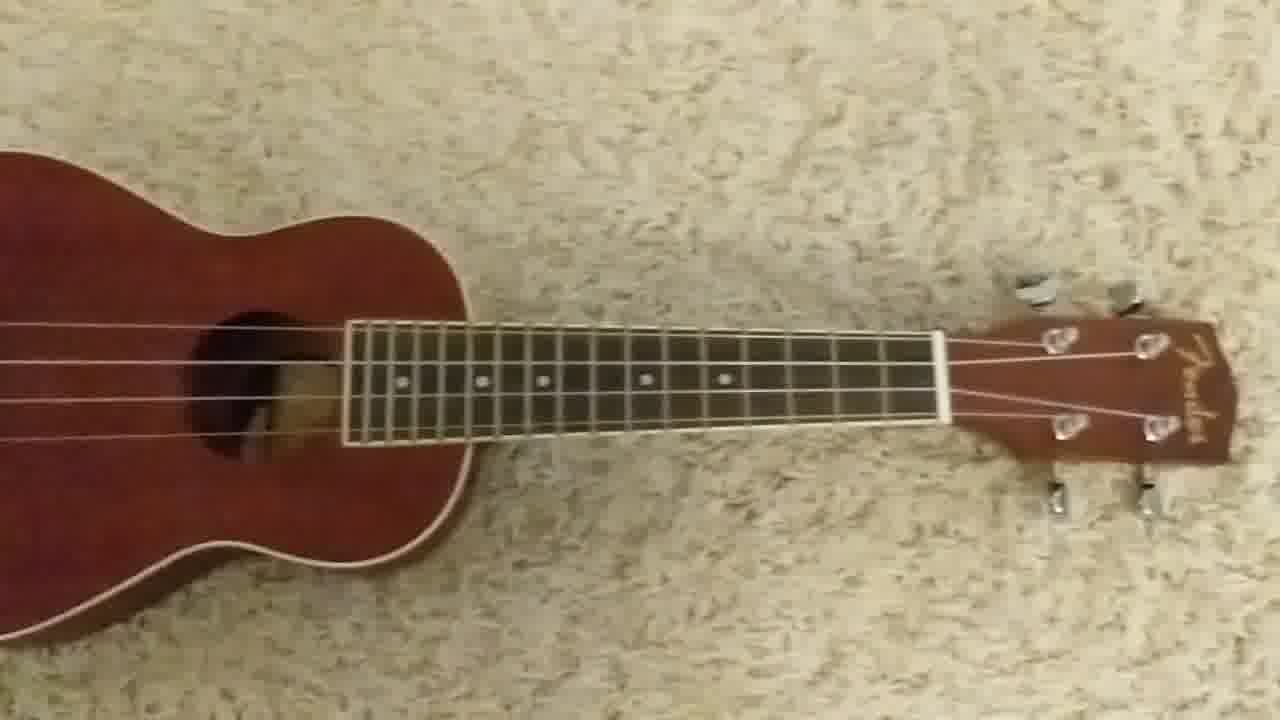Body: (1, 146, 476, 645)
Headstock: (946, 274, 1239, 524)
